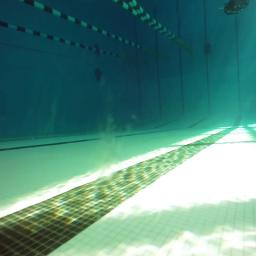Side: (220, 0, 248, 16)
